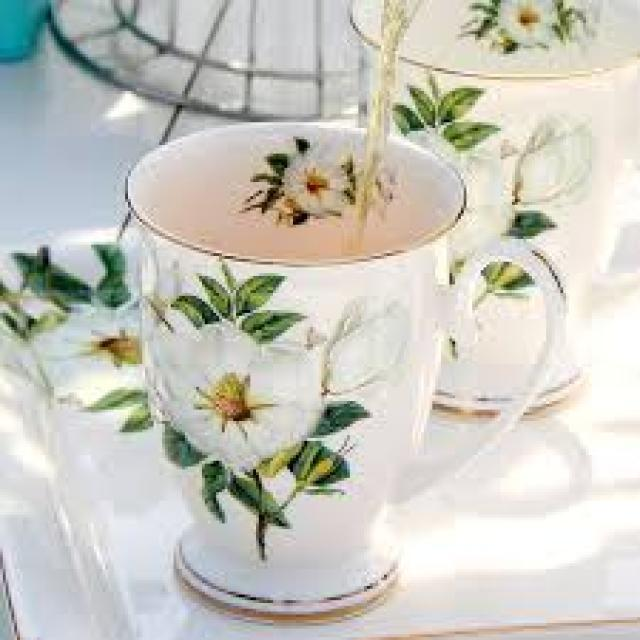taza: (108, 112, 574, 622)
